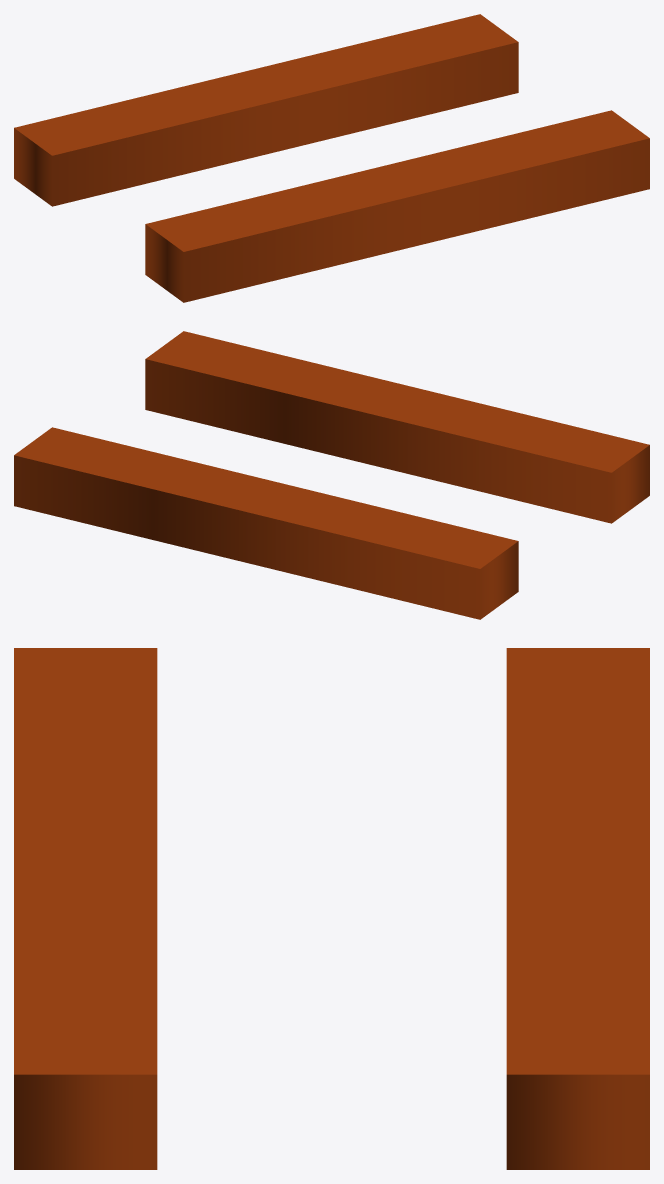
The model's file is equal.obj.
The picture shows the model from 3 angles, top to bottom: view 1: azimuth 30°, elevation 25°; view 2: azimuth 150°, elevation 25°; view 3: azimuth 270°, elevation 25°; orthographic projection. The views are drawn at different scales.
Parts seen in each view (by area): view 1: Text_CUText; view 2: Text_CUText; view 3: Text_CUText.
Part boxes in pixels (bbox=[...]): Text_CUText: bbox=[14, 14, 649, 302]; Text_CUText: bbox=[14, 331, 649, 619]; Text_CUText: bbox=[14, 648, 649, 1169].
Size of the model in its own units: 0.9598 by 0.1 by 0.605.
